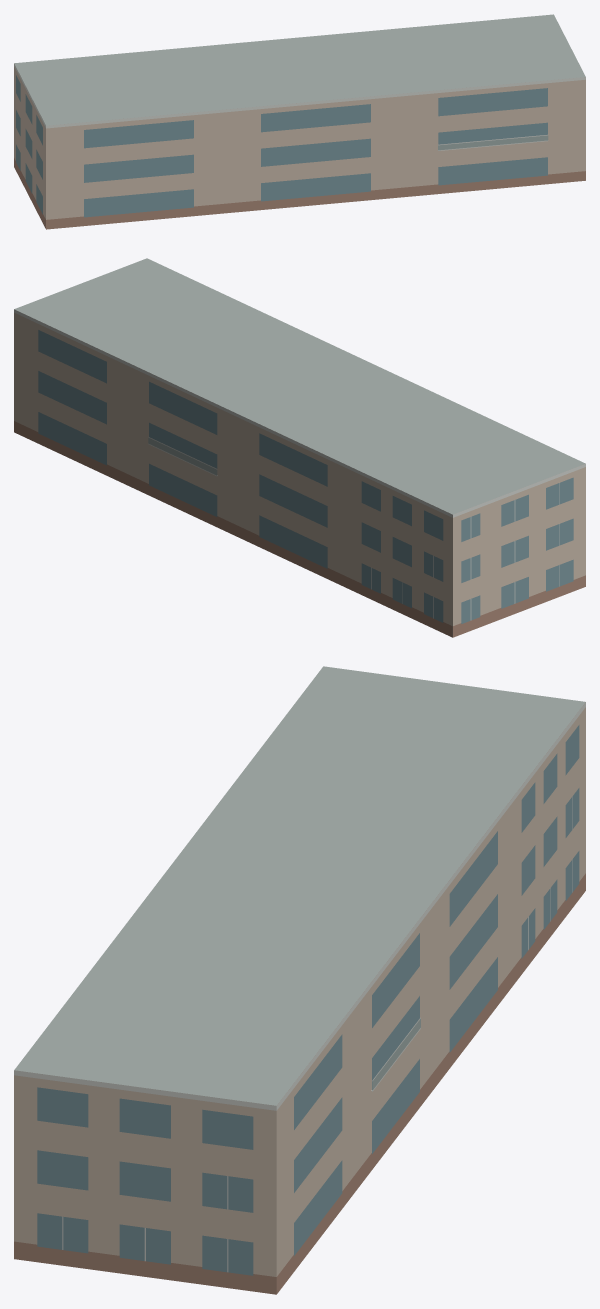
Rendered from survey-upis-32676478.glb.
The picture shows the model from 3 angles, top to bottom: view 1: azimuth 30°, elevation 25°; view 2: azimuth 150°, elevation 25°; view 3: azimuth 270°, elevation 25°; orthographic projection. The views are drawn at different scales.
Visible parts, largest first — view 1: survey-upis-32676478.tmp; view 2: survey-upis-32676478.tmp; view 3: survey-upis-32676478.tmp.
Boxes of the visible parts, <box> form: survey-upis-32676478.tmp: <box>14,14,585,229</box>; survey-upis-32676478.tmp: <box>14,258,585,637</box>; survey-upis-32676478.tmp: <box>14,666,585,1294</box>.
Size of the model in its own units: 45.69 by 9.15 by 25.12.
